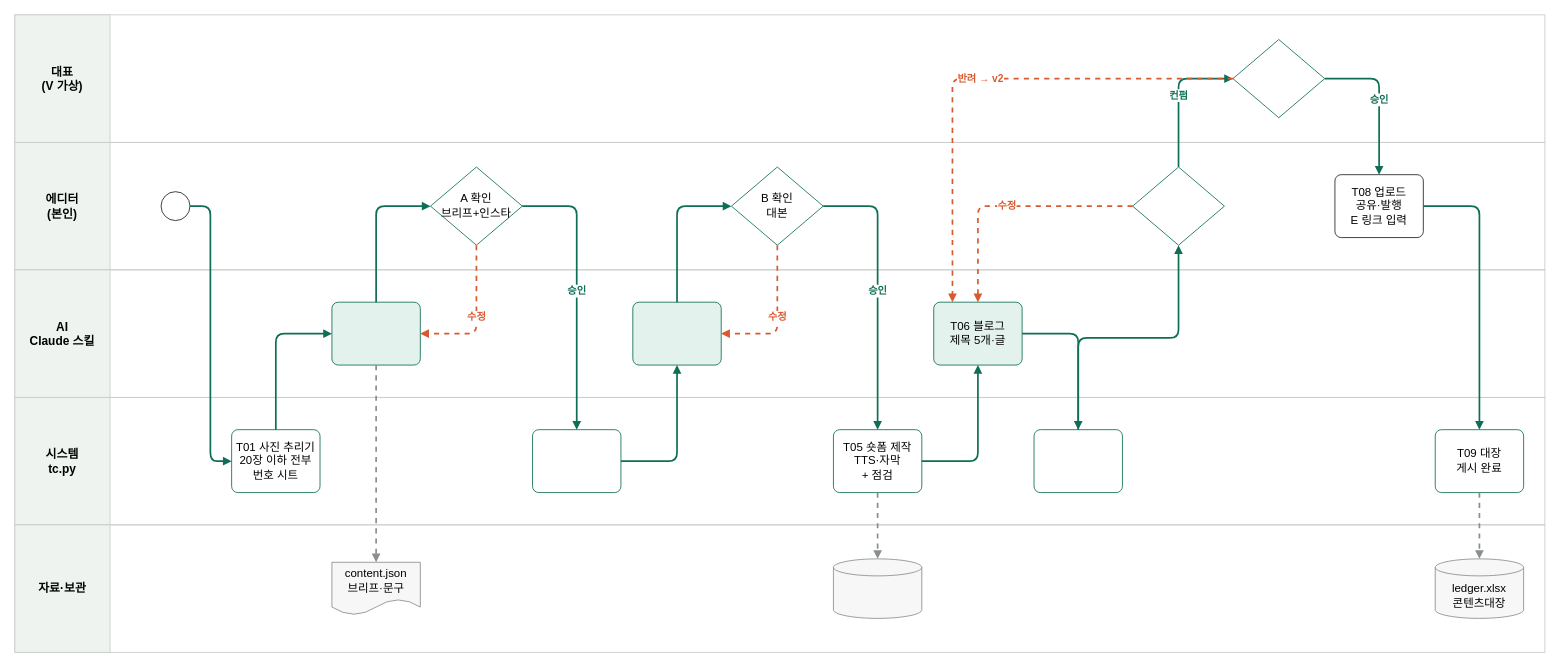
The diagram is 1560 pixels wide and 667 high, and some of its shapes have lost their labels. Each missing label, with the centre of its shape:
best_*·채널/vN 결과물: point 877,588
C 확인 블로그: point 1178,205
D 최종 승인 3채널 한 번에: point 1278,78
T02 정보 검색 브리프·표지· 순서·캡션 제안: point 375,333
T03 카드 제작 + 규칙 점검: point 576,461
T04 영상 제목·대본: point 676,333
T07 블로그 HTML + 점검: point 1077,461
